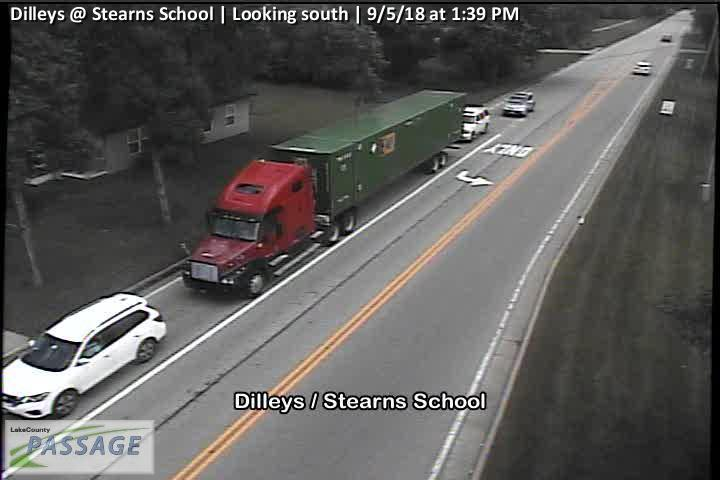SUV: (1, 293, 168, 418), (454, 104, 491, 143), (503, 90, 535, 118)
Sedan: (631, 61, 652, 75)
Truck: (181, 90, 466, 301)
